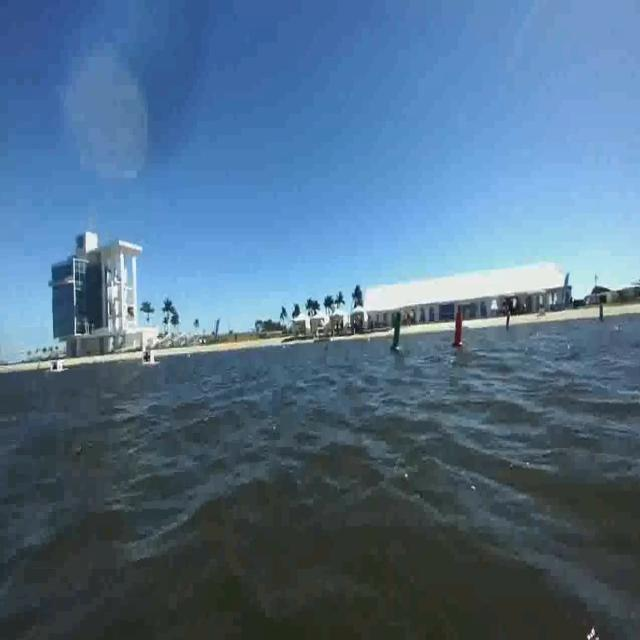green-column-buoy: (390, 312, 405, 354)
red-column-buoy: (450, 310, 464, 350)
